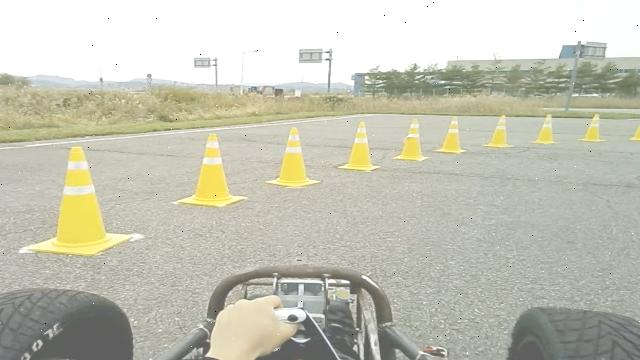yellow cone: (23, 145, 132, 256), (176, 132, 248, 207), (264, 126, 322, 188), (338, 121, 381, 171), (396, 115, 429, 161), (435, 116, 468, 153), (482, 114, 516, 148), (529, 113, 561, 145), (578, 113, 606, 142), (630, 113, 640, 141)
